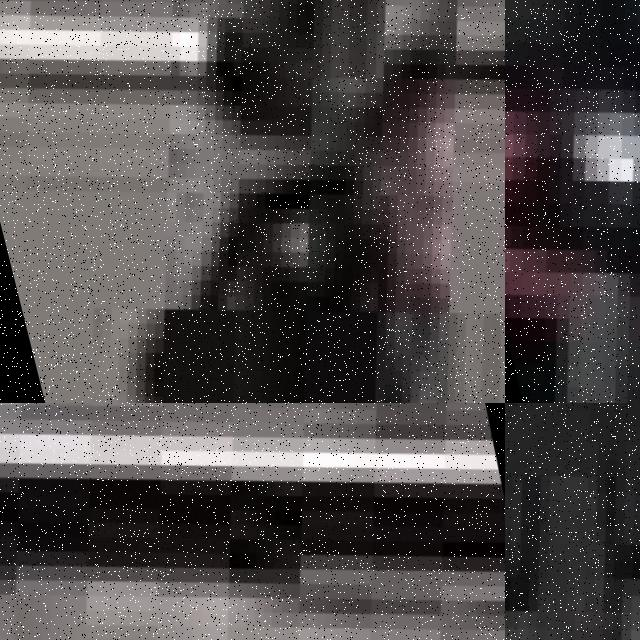0: (0, 0, 505, 403), (0, 403, 505, 640)
drone: (505, 0, 640, 403), (505, 403, 640, 640)
